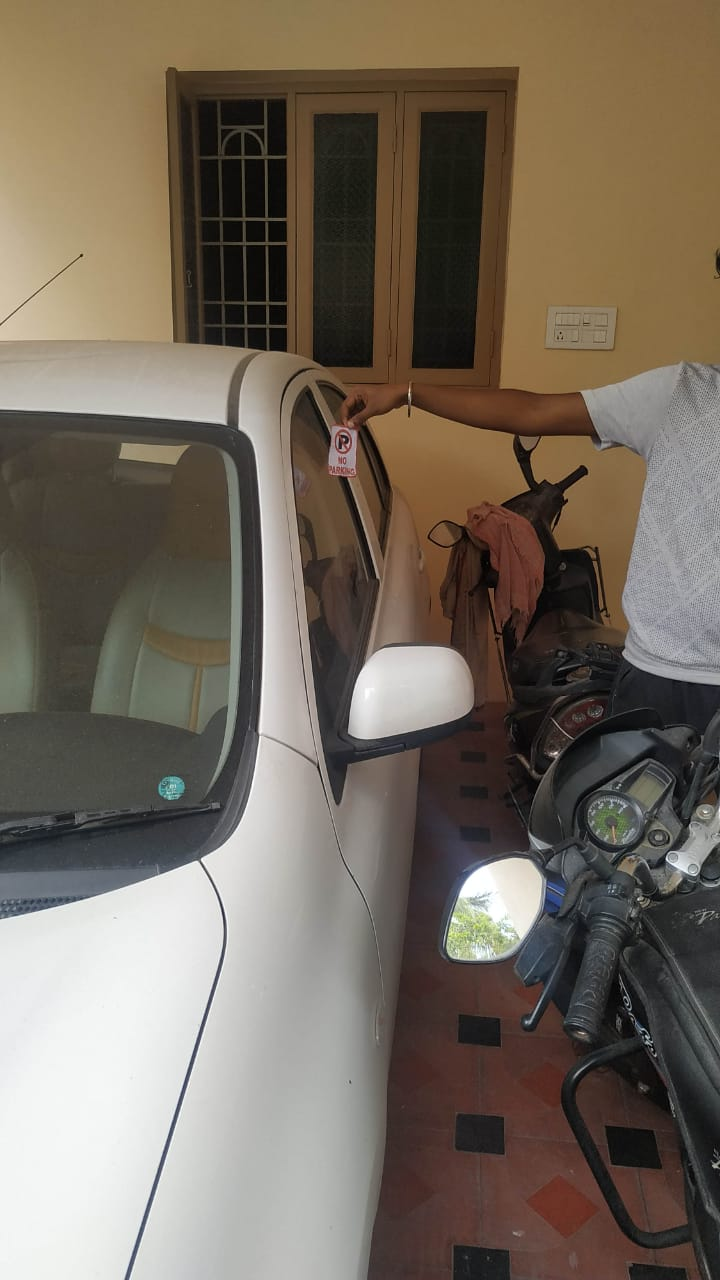NO PARKING: (314, 423, 371, 480)
